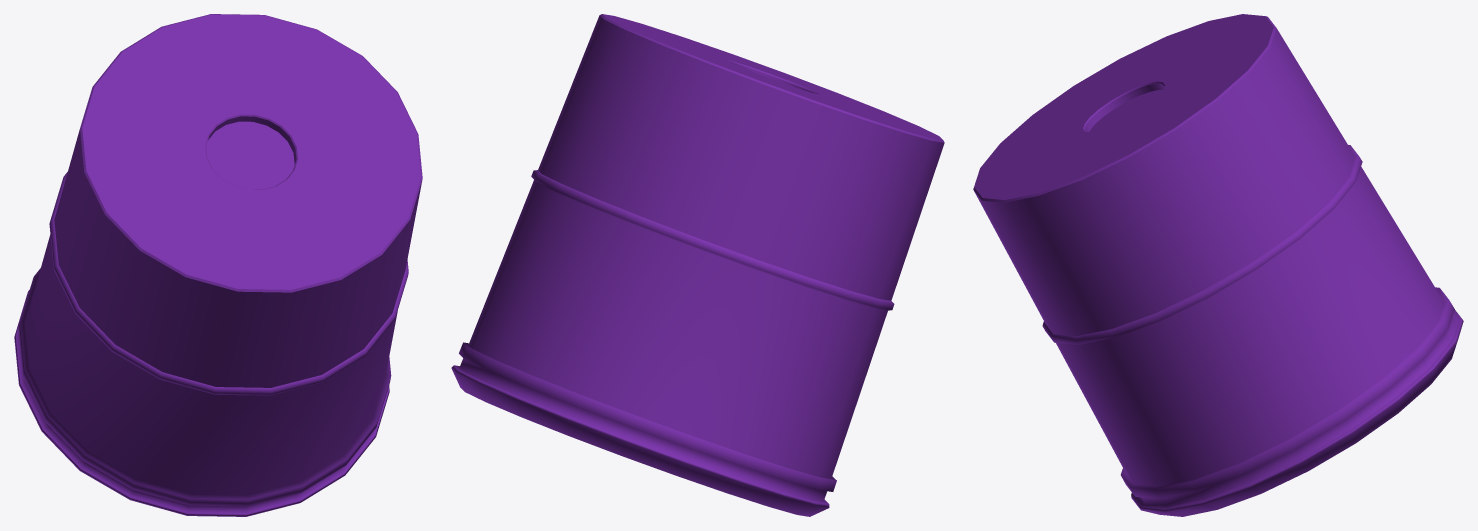
The model's file is Level_sand_ad5.fbx.
The picture shows the model from 3 angles, left to right: view 1: azimuth 30°, elevation 25°; view 2: azimuth 150°, elevation 25°; view 3: azimuth 270°, elevation 25°; orthographic projection. The views are drawn at different scales.
Parts seen in each view (by area): view 1: pCylinder4; view 2: pCylinder4; view 3: pCylinder4.
Boxes of the visible parts, left/top/right/bottom form: pCylinder4: left=14, top=14, right=422, bottom=516; pCylinder4: left=451, top=14, right=944, bottom=516; pCylinder4: left=973, top=14, right=1463, bottom=516.
Bounding box in the file's own units: 1.07 × 1.32 × 1.3.
